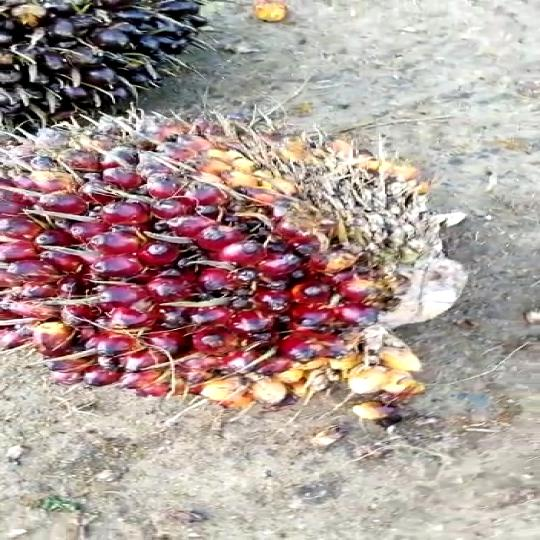kurang masak: (0, 104, 503, 407)
